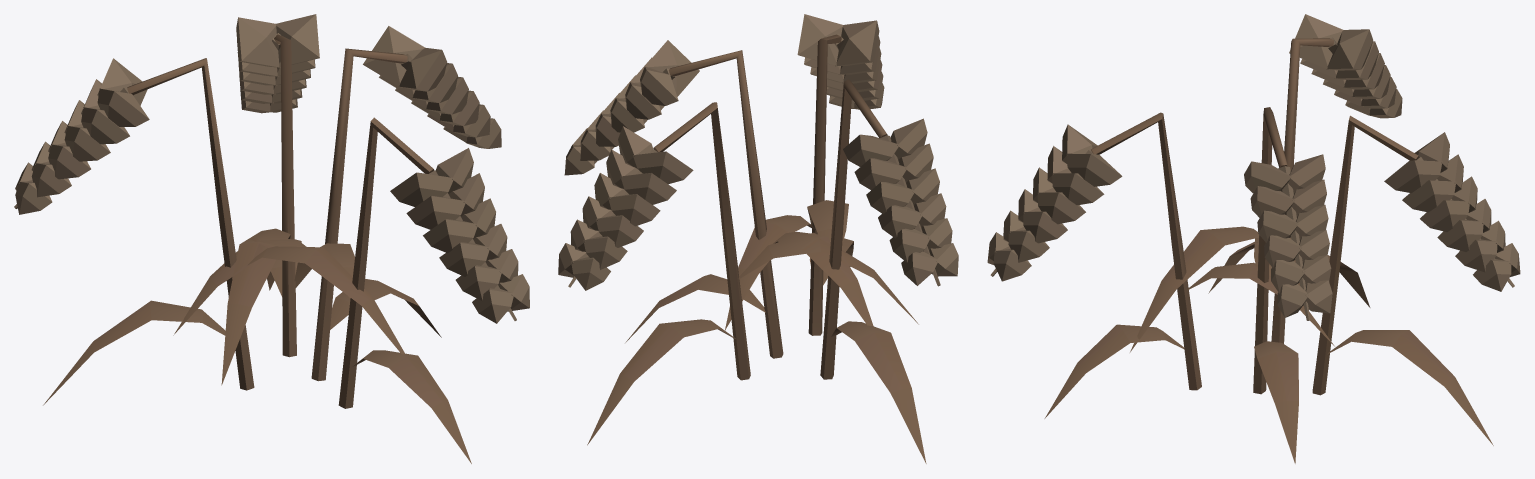
Rendered from crop_wheat_withered.glb.
3 views of the same model, side by side, from view 1: azimuth 30°, elevation 25°; view 2: azimuth 150°, elevation 25°; view 3: azimuth 270°, elevation 25° (orthographic). The views are drawn at different scales.
Visible parts, largest first — view 1: wheat_head_0_grain, wheat_leaf_0_0; view 2: wheat_head_0_grain, wheat_leaf_0_0; view 3: wheat_head_0_grain, wheat_leaf_0_0.
Boxes of the visible parts, <box> form: wheat_head_0_grain: <box>14,14,529,323</box>; wheat_leaf_0_0: <box>43,34,471,463</box>; wheat_head_0_grain: <box>558,14,958,290</box>; wheat_leaf_0_0: <box>587,34,926,463</box>; wheat_head_0_grain: <box>987,14,1520,320</box>; wheat_leaf_0_0: <box>1044,38,1493,463</box>.
Bounding box in the file's own units: 0.8098 × 0.6154 × 0.9004.
